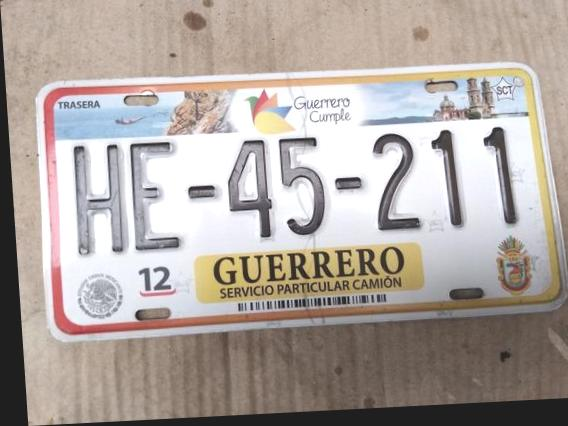License_Plate: (29, 42, 568, 354)
